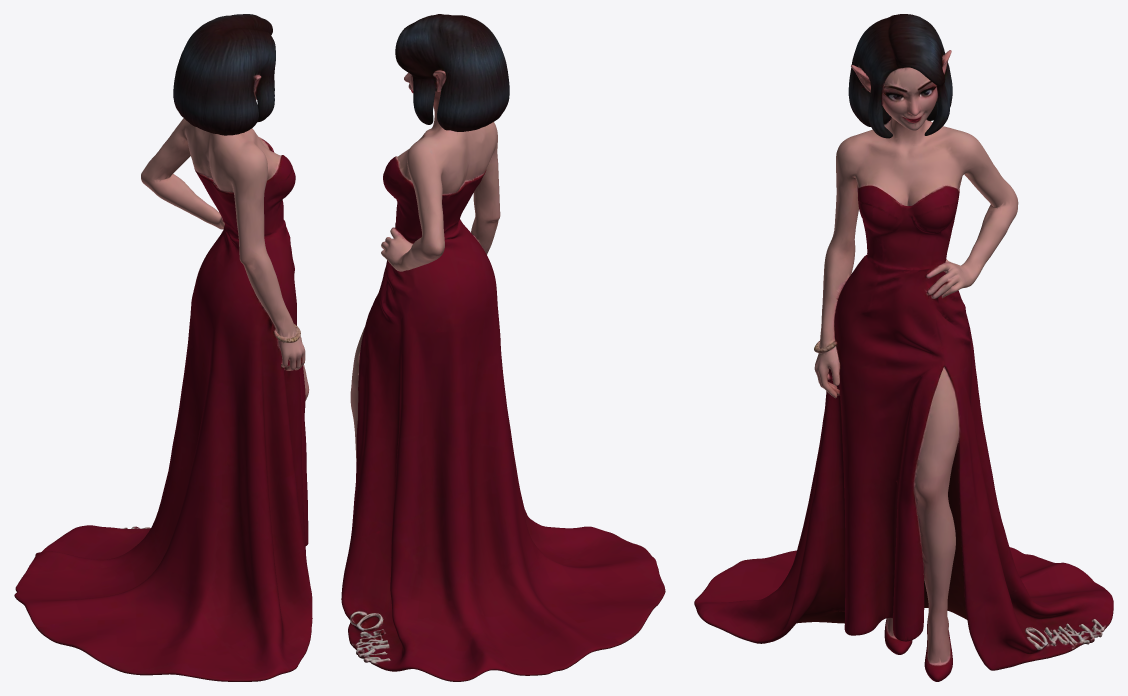
The model's file is aiprintgen_Elegant Elf Woman in Red Gown with High Slit-preview.glb.
The picture shows the model from 3 angles, left to right: view 1: azimuth 30°, elevation 25°; view 2: azimuth 150°, elevation 25°; view 3: azimuth 270°, elevation 25°; orthographic projection. The views are drawn at different scales.
Parts seen in each view (by area): view 1: aiprintgen_node_1572e111-cb7b-4b67-9487-ded75093edd0; view 2: aiprintgen_node_1572e111-cb7b-4b67-9487-ded75093edd0; view 3: aiprintgen_node_1572e111-cb7b-4b67-9487-ded75093edd0.
Boxes of the visible parts, left/top/right/bottom form: aiprintgen_node_1572e111-cb7b-4b67-9487-ded75093edd0: left=14, top=14, right=312, bottom=681; aiprintgen_node_1572e111-cb7b-4b67-9487-ded75093edd0: left=341, top=14, right=665, bottom=681; aiprintgen_node_1572e111-cb7b-4b67-9487-ded75093edd0: left=694, top=14, right=1113, bottom=681.
Size of the model in its own units: 0.4904 by 1 by 0.6127.
1 material, 1 textured.
